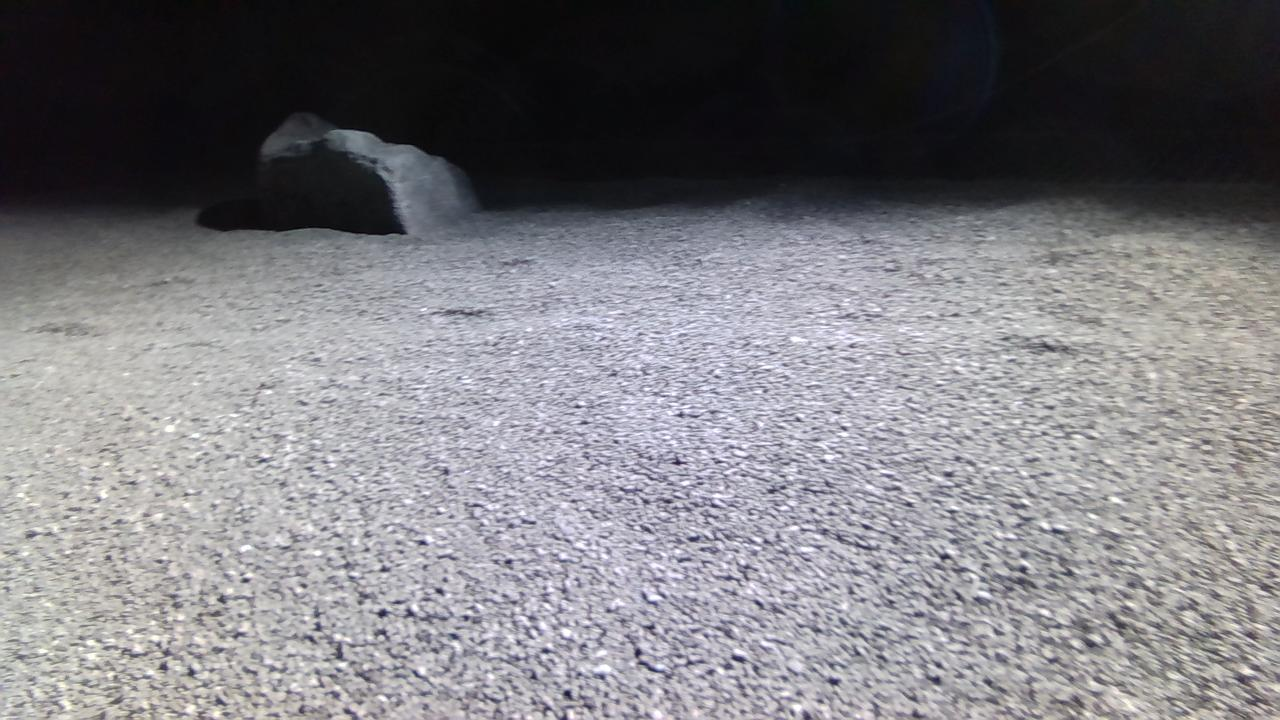rock: (256, 112, 479, 233)
